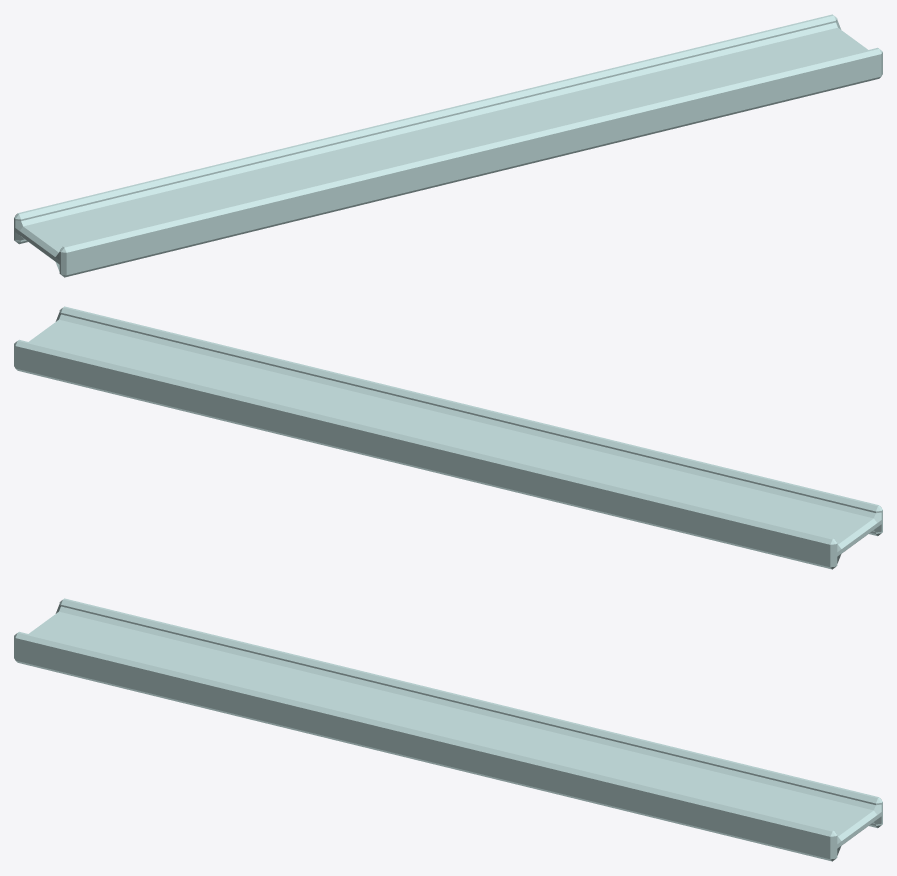
Rendered from road (1).fbx.
3 renders of one model, top to bottom at view 1: azimuth 30°, elevation 25°; view 2: azimuth 150°, elevation 25°; view 3: azimuth 330°, elevation 25°, orthographic.
Parts seen in each view (by area): view 1: Cube; view 2: Cube; view 3: Cube.
Part boxes in pixels (bbox=[...]): Cube: bbox=[14, 14, 882, 277]; Cube: bbox=[14, 306, 882, 569]; Cube: bbox=[14, 598, 882, 861].
Bounding box in the file's own units: 18.57 × 0.6465 × 2.
